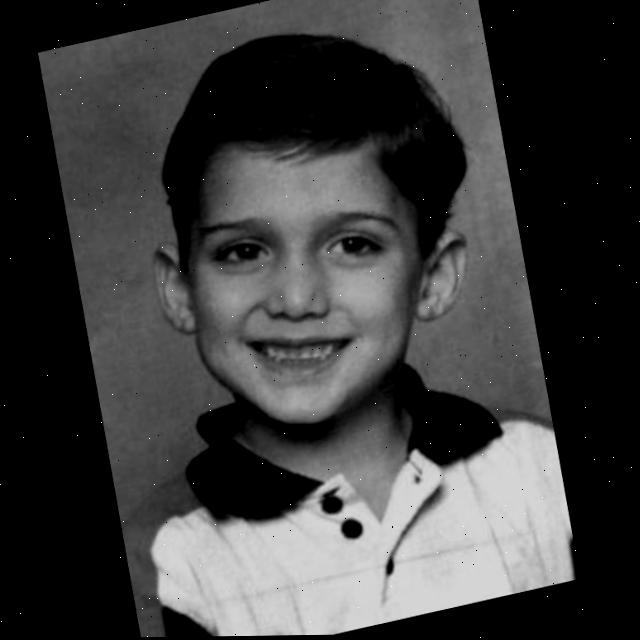face: (122, 85, 507, 466)
